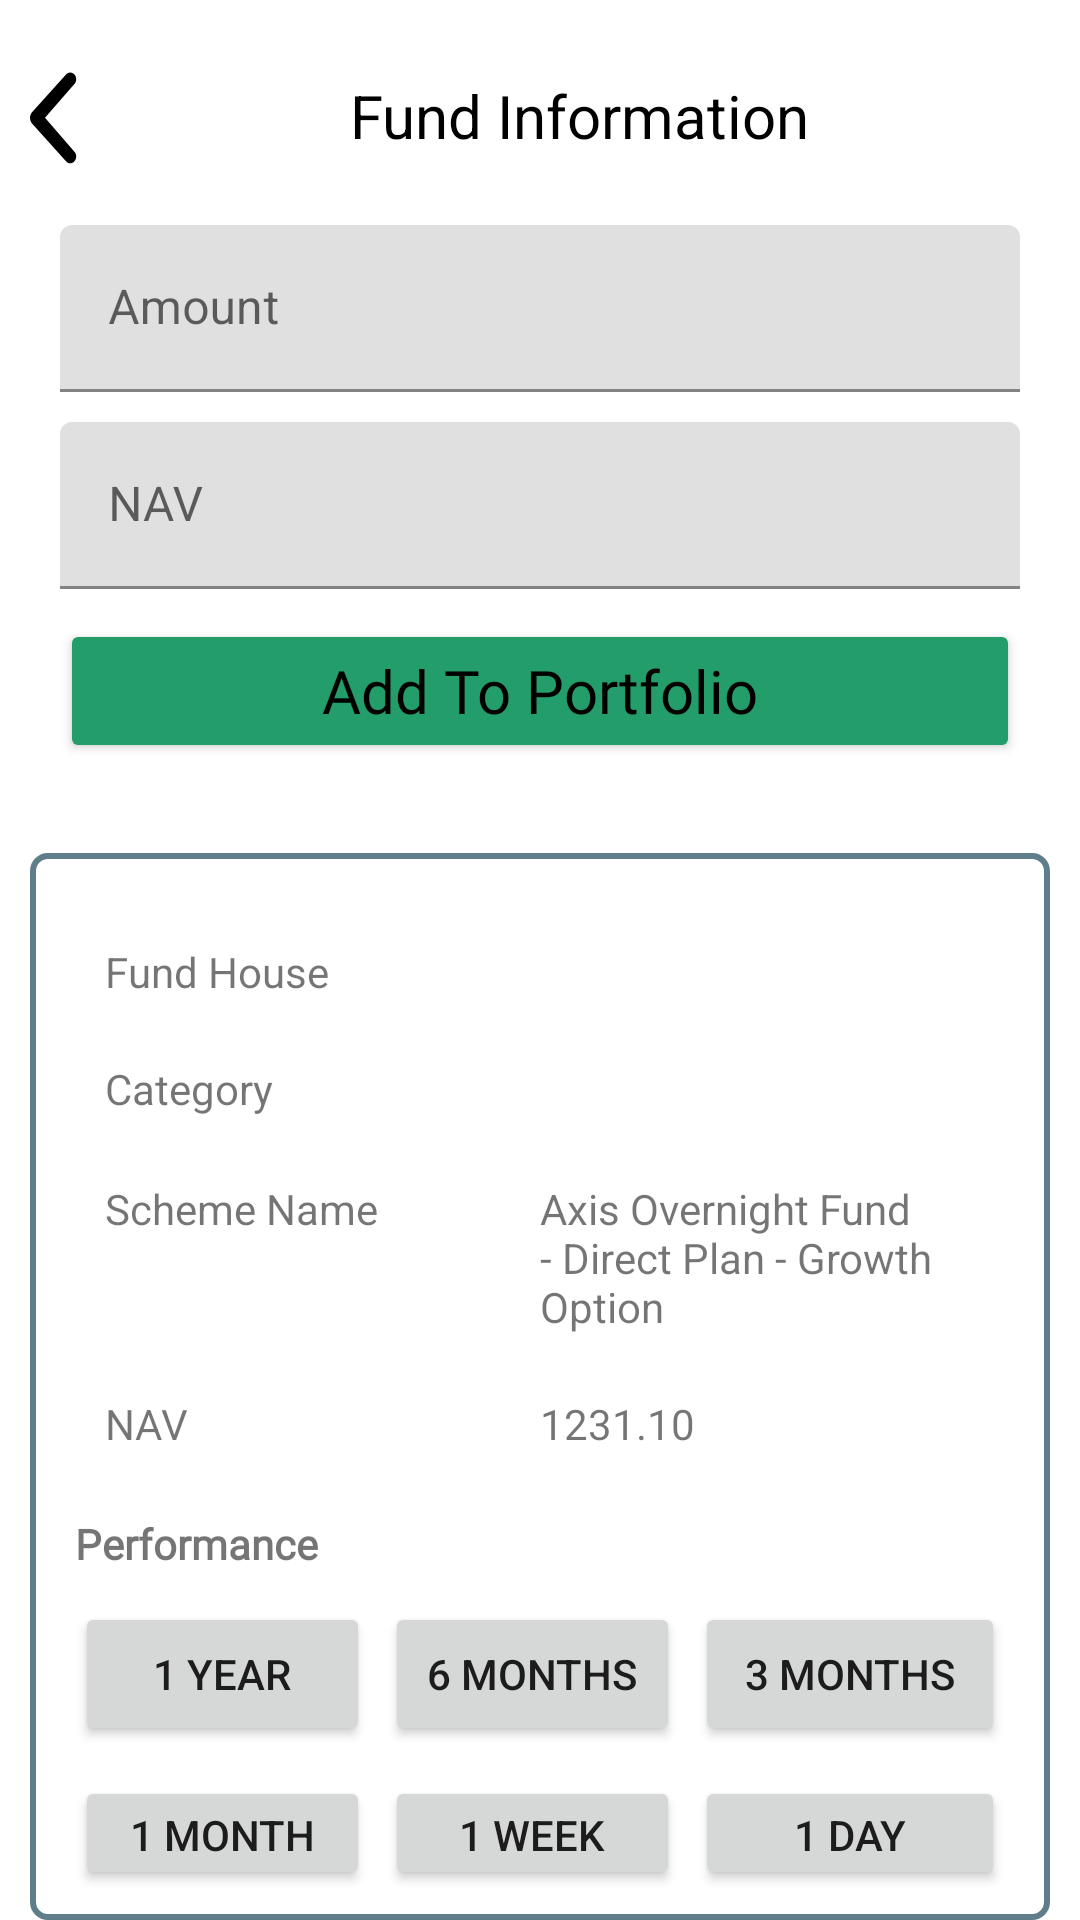

Screen size 1080×1920. Icon name, then its box in pixels as (x1, y1, x2, y2):
back: (30, 72, 77, 164)
